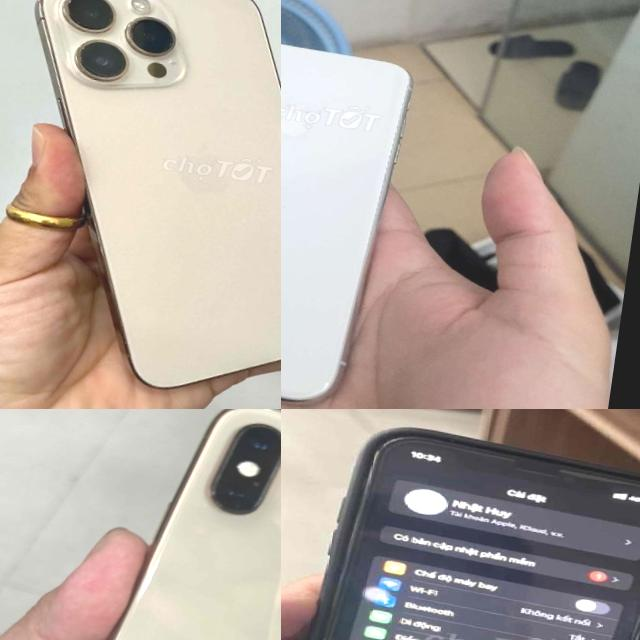gen_14: (0, 0, 281, 408)
gen_x_xs: (281, 409, 640, 640), (5, 409, 281, 640), (281, 44, 411, 402)
